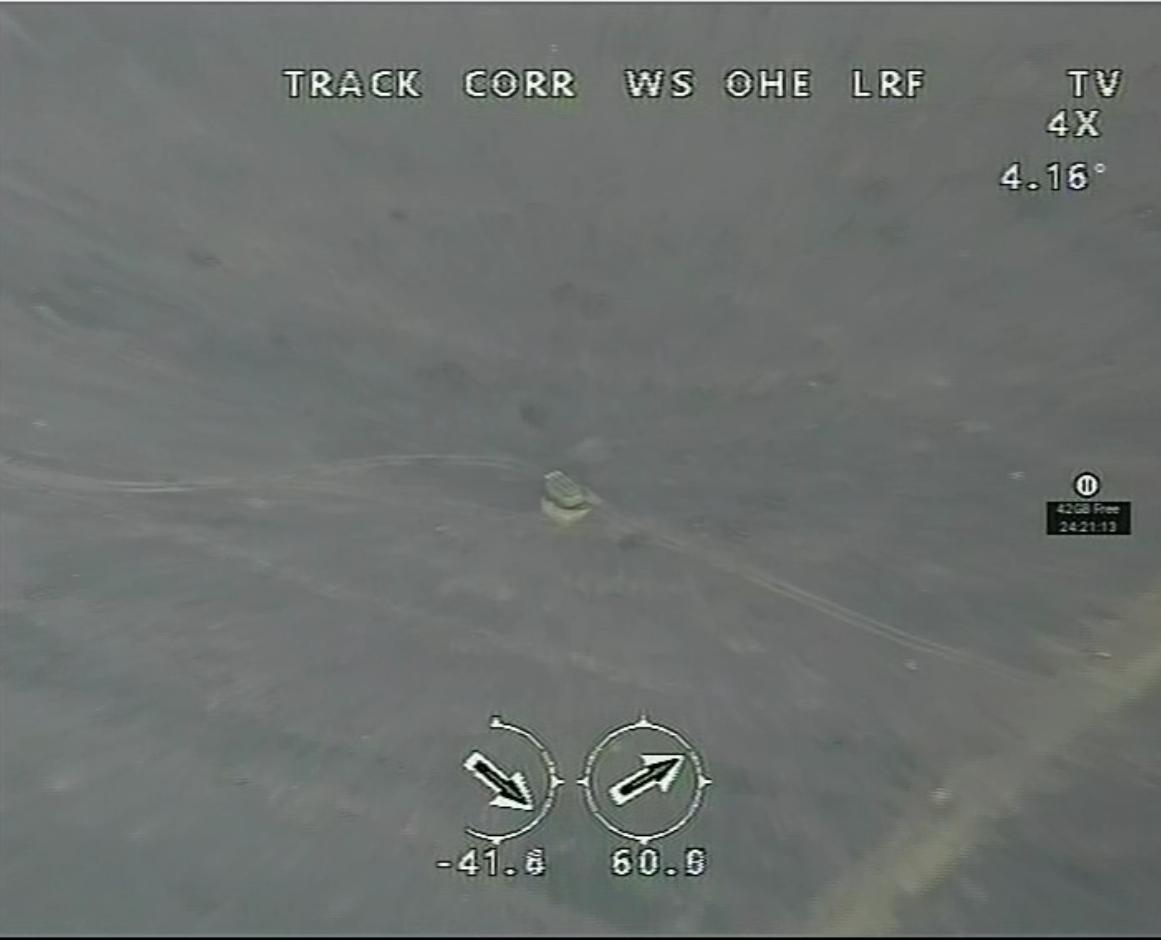armored_car: (541, 466, 590, 509)
